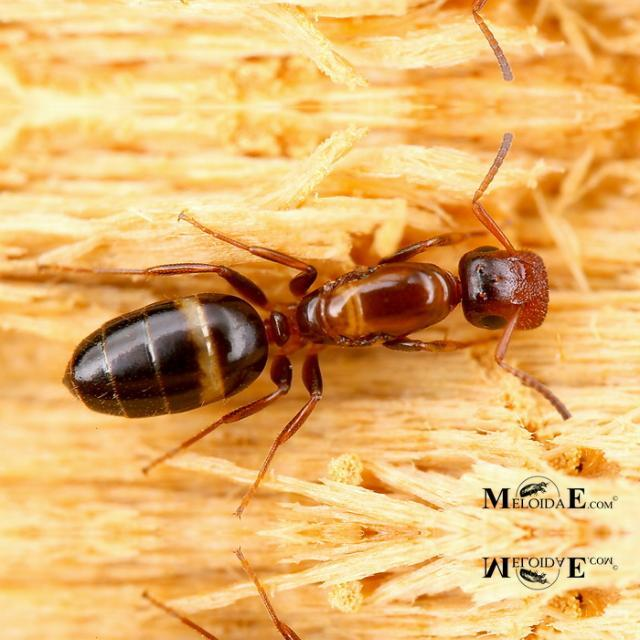Colobopsis: (28, 186, 606, 450)
